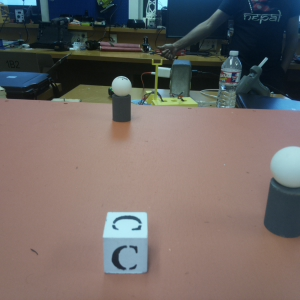blockC: (102, 213, 147, 273)
obstacle: (264, 145, 299, 234), (111, 77, 133, 122)
